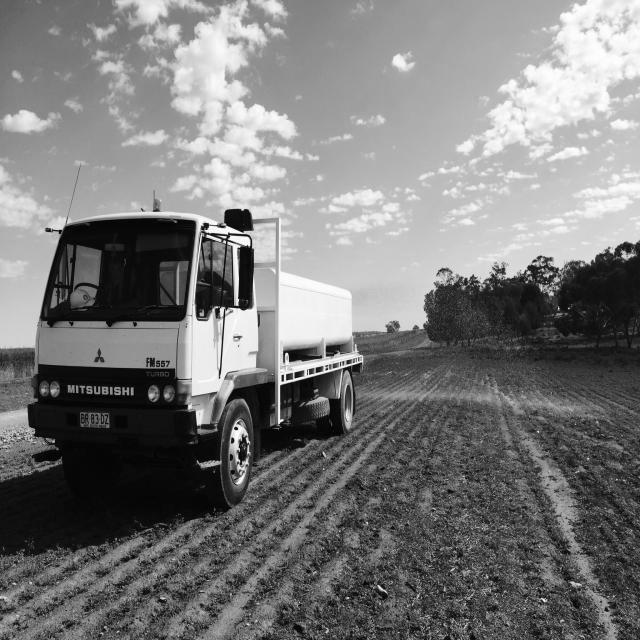truck: (19, 197, 285, 506)
